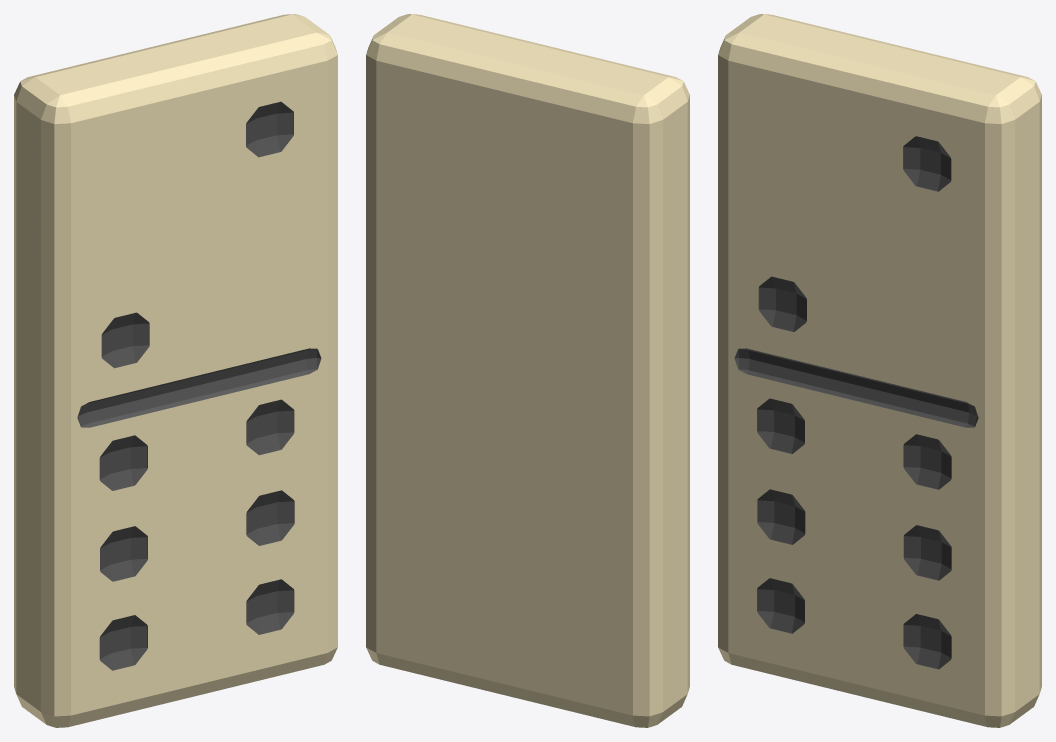
The model's file is dominoes 2x6.fbx.
The picture shows the model from 3 angles, left to right: view 1: azimuth 30°, elevation 25°; view 2: azimuth 150°, elevation 25°; view 3: azimuth 330°, elevation 25°; orthographic projection.
Visible parts, largest first — view 1: Boole_15; view 2: Boole_15; view 3: Boole_15.
Part boxes in pixels (x1,y1,x2,y2): Boole_15: (14,14,337,727); Boole_15: (366,14,689,727); Boole_15: (718,14,1041,727).
Size of the model in its own units: 200 by 410 by 55.02.
